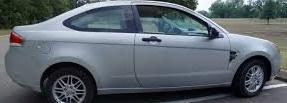Cars: (5, 3, 281, 103)
